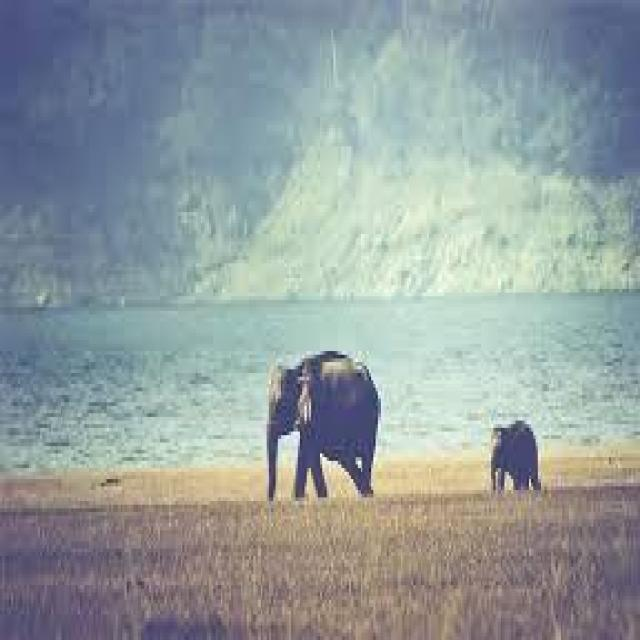Elephant: (258, 344, 384, 508)
